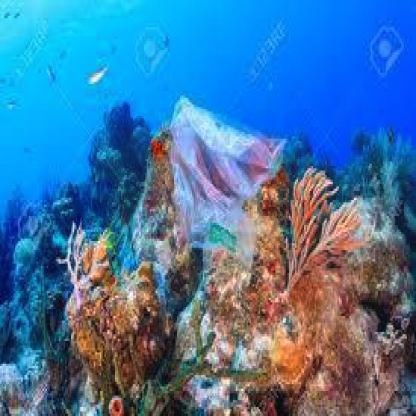pbag: (169, 93, 286, 282)
